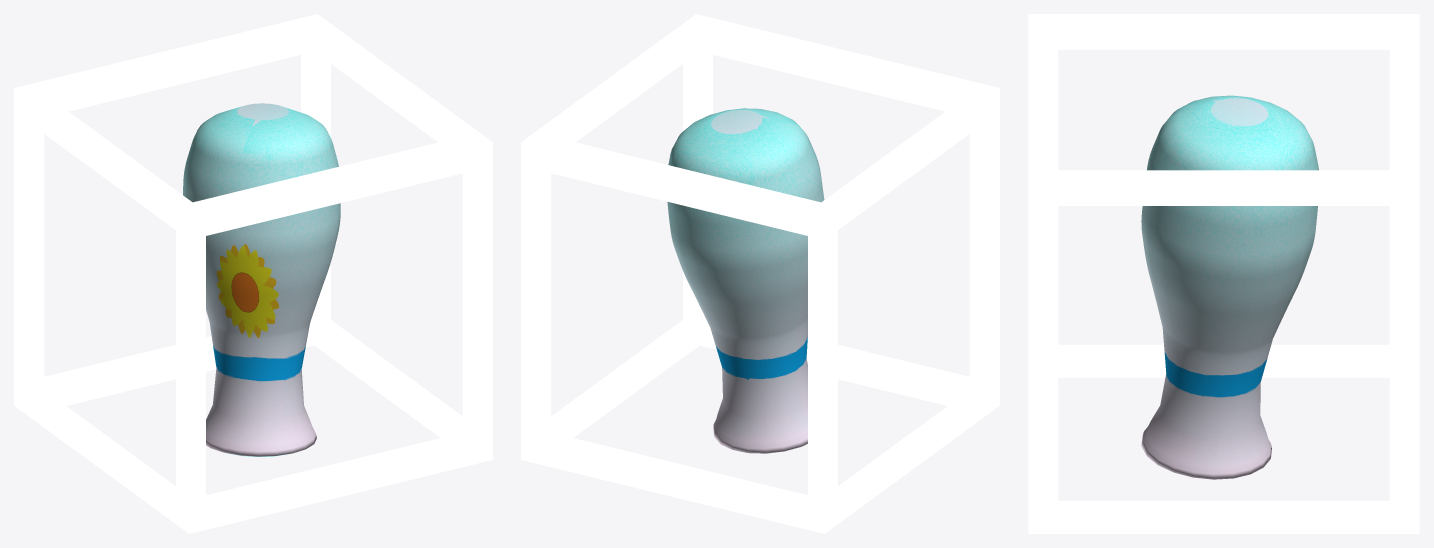
File: Vase.gltf
3 renders of one model, left to right at view 1: azimuth 30°, elevation 25°; view 2: azimuth 150°, elevation 25°; view 3: azimuth 270°, elevation 25°, orthographic. The views are drawn at different scales.
Parts seen in each view (by area): view 1: pCube1, pCylinder1; view 2: pCube1, pCylinder1; view 3: pCube1, pCylinder1.
Part boxes in pixels (box(x1,y1,x2,y2)): pCube1: box(14, 14, 492, 533); pCylinder1: box(183, 103, 340, 456); pCube1: box(521, 14, 999, 533); pCylinder1: box(667, 108, 824, 453); pCube1: box(1028, 14, 1419, 533); pCylinder1: box(1141, 95, 1318, 479).
Size of the model in its own units: 0.05 by 0.051 by 0.05.
Materials: 2 (1 with a texture image).
